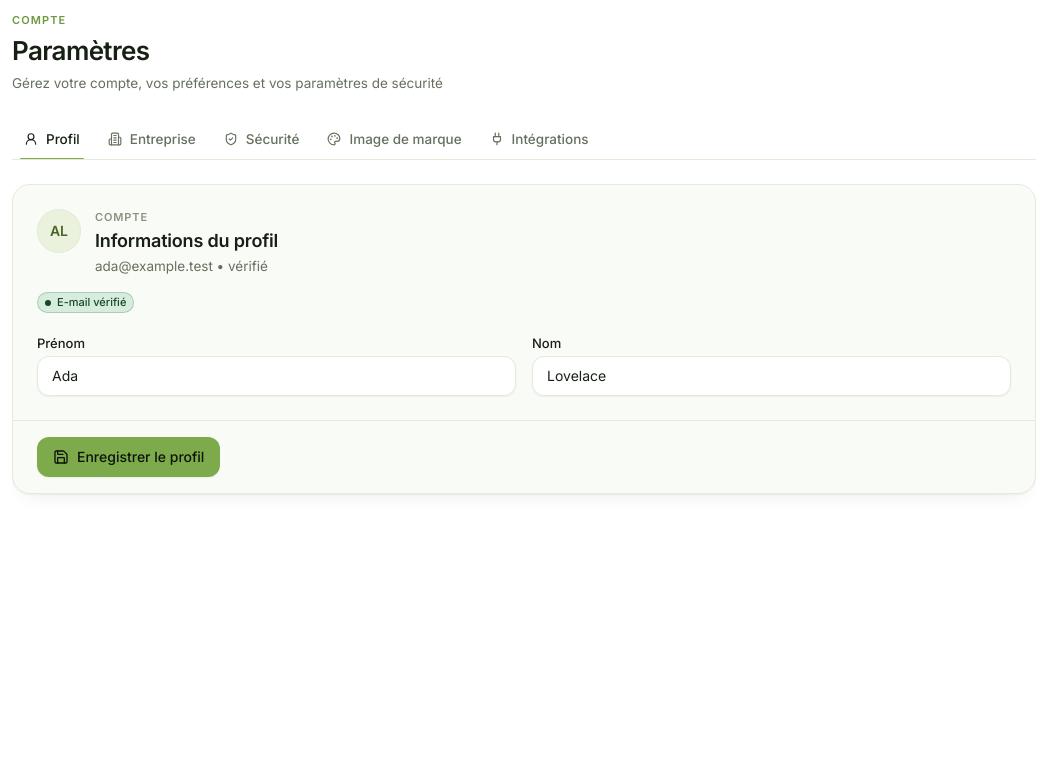
it: settings page › asks for confirmation before deleting the logo
Expected: the heading "Informations du profil" is shown, x1=95 y1=230 x2=278 y2=252
Click the tab "Image de marque" at (395, 139), box x1=316 y1=119 x2=474 y2=159
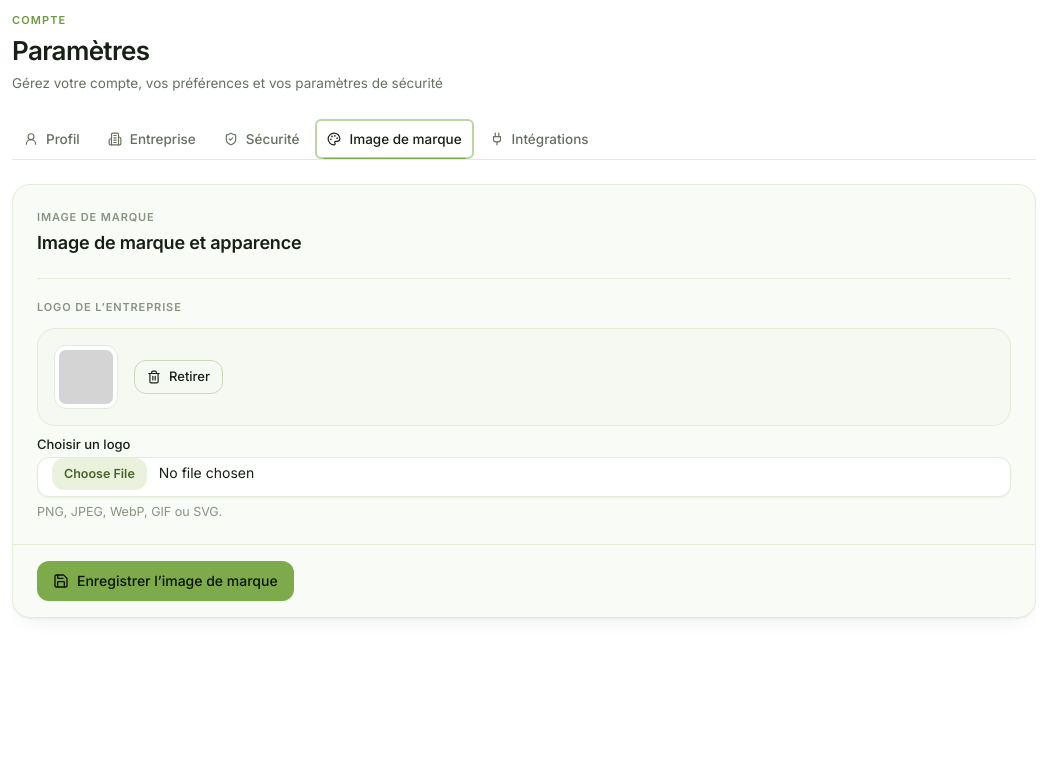
Click the button "Retirer" at (178, 377), box x1=134 y1=360 x2=223 y2=394
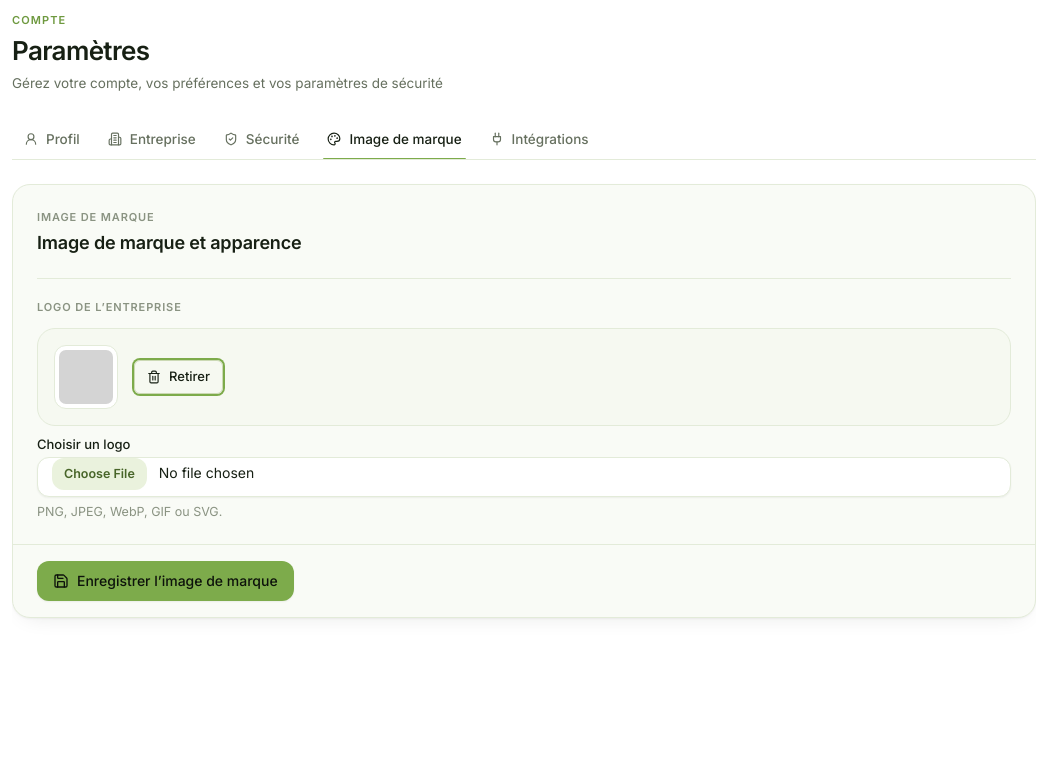
Click the button "Retirer" at (178, 377), box x1=134 y1=360 x2=223 y2=394
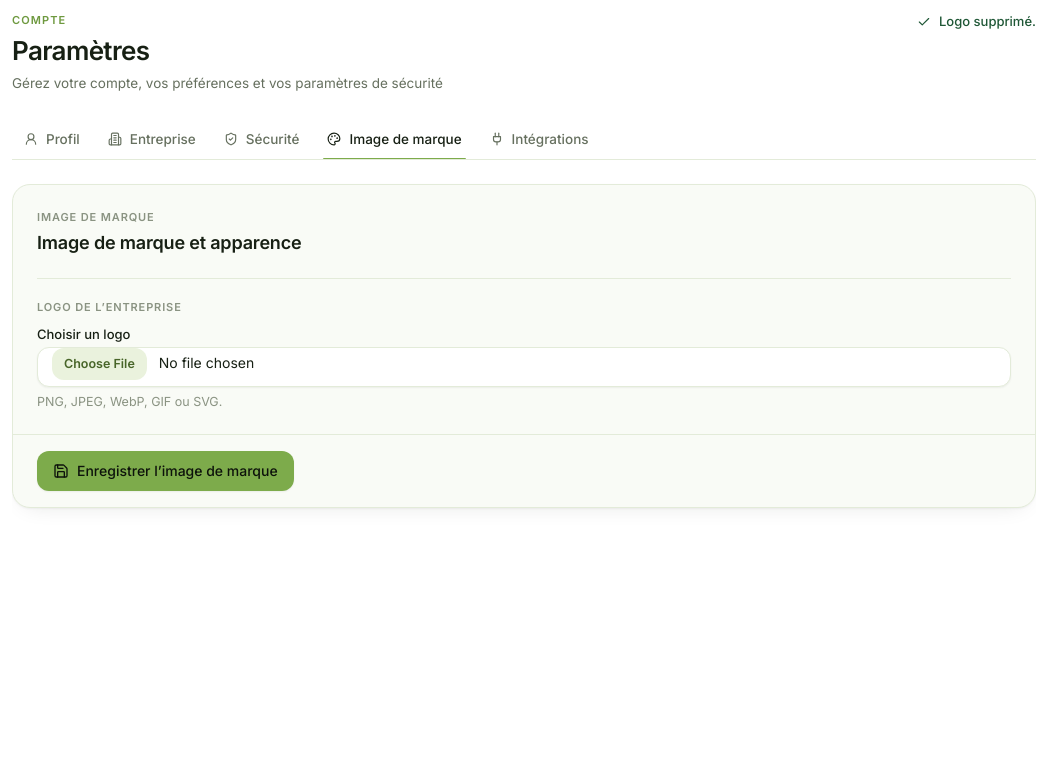
Expected: the text "Logo supprimé." is shown, x1=917 y1=12 x2=1036 y2=32
Expected: the picture with test id "business-logo-preview" is gone
